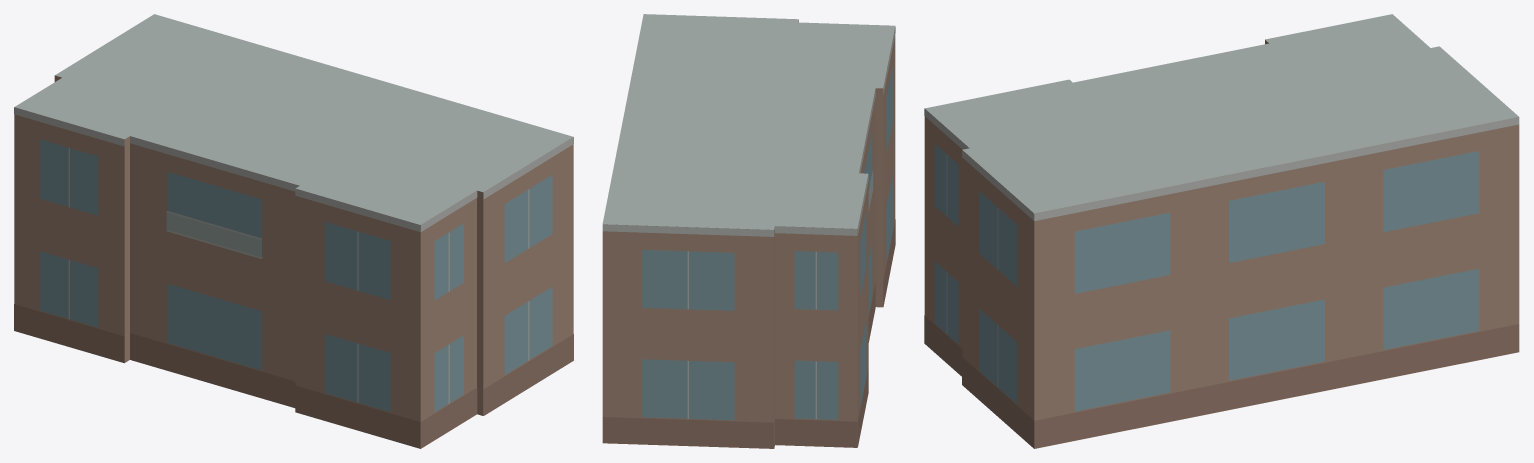
The model's file is survey-upis-32739956.glb.
The picture shows the model from 3 angles, left to right: view 1: azimuth 30°, elevation 25°; view 2: azimuth 150°, elevation 25°; view 3: azimuth 270°, elevation 25°; orthographic projection. The views are drawn at different scales.
Visible parts, largest first — view 1: survey-upis-32739956.tmp; view 2: survey-upis-32739956.tmp; view 3: survey-upis-32739956.tmp.
Boxes of the visible parts, x1,y1,x2,y2 form: survey-upis-32739956.tmp: [14, 14, 573, 448]; survey-upis-32739956.tmp: [602, 14, 895, 448]; survey-upis-32739956.tmp: [924, 14, 1519, 448].
Size of the model in its own units: 13.84 by 7.6 by 17.42.
